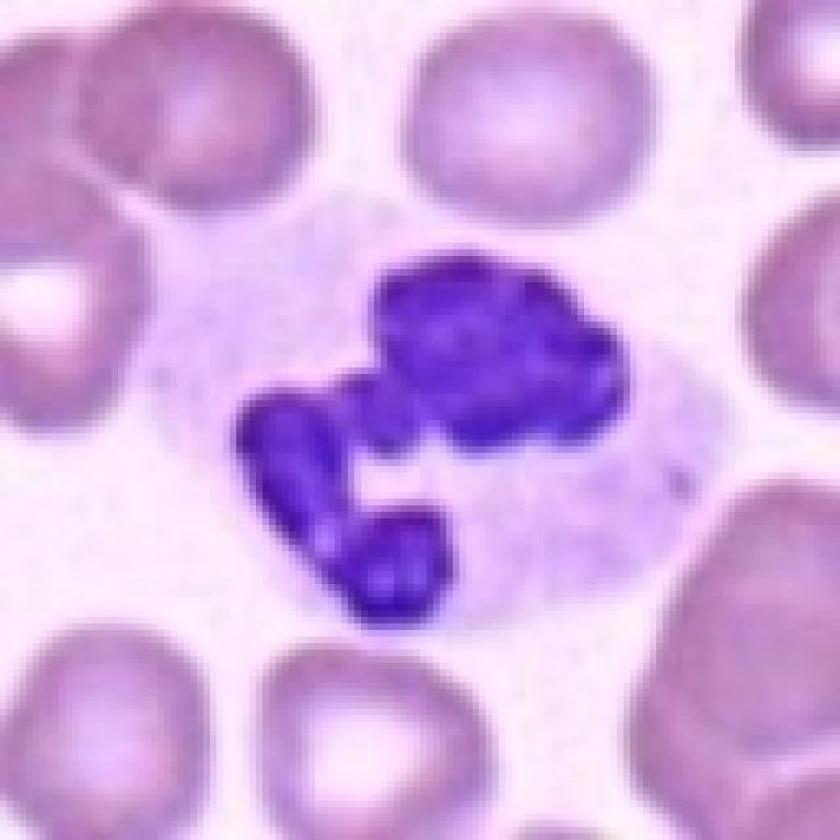neutrophil: (133, 191, 744, 635)
